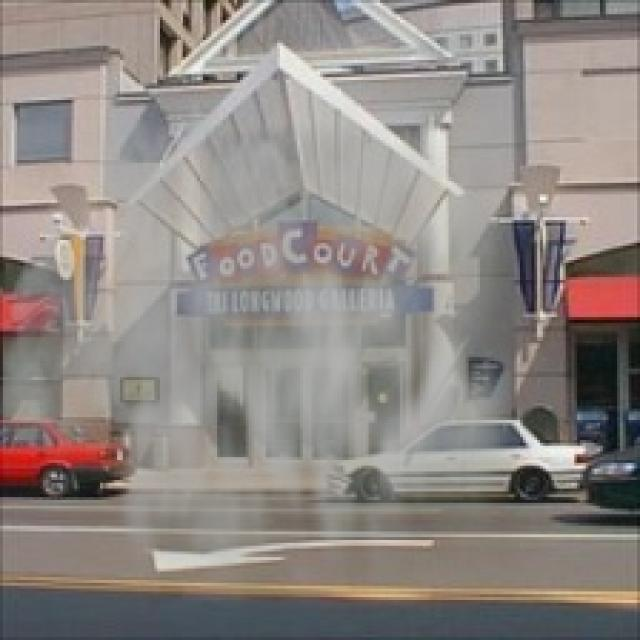smoke: (3, 37, 551, 603)
